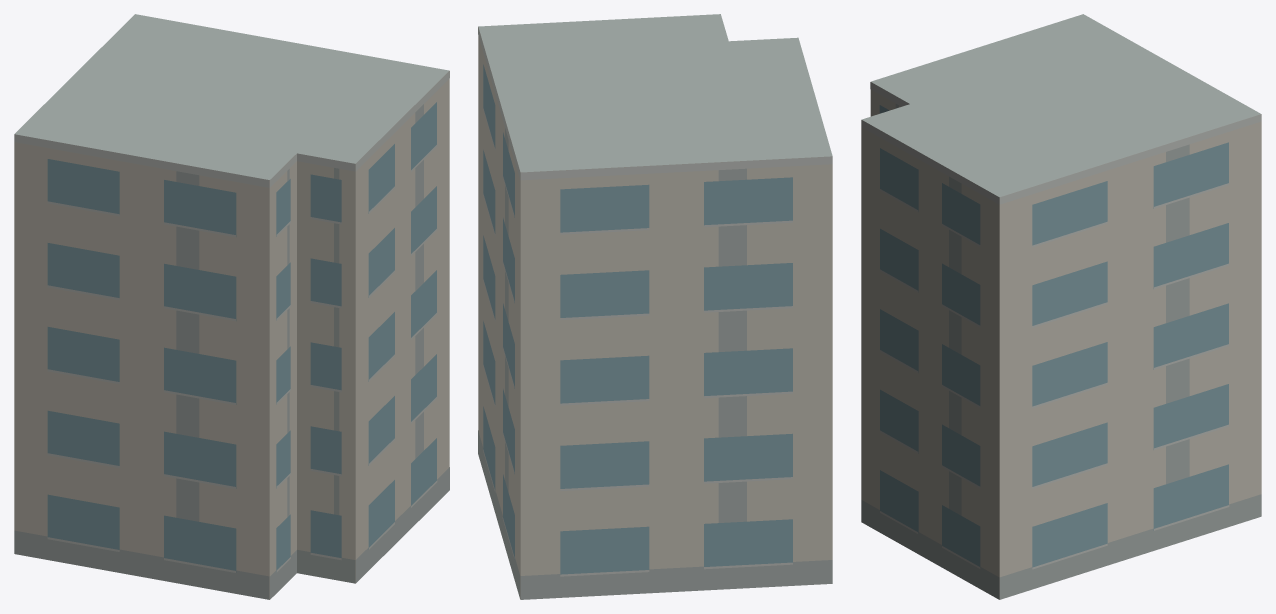
File: residential-63ffddf1-5d99-4622-8a39-65be69828a64.glb
The picture shows the model from 3 angles, left to right: view 1: azimuth 30°, elevation 25°; view 2: azimuth 150°, elevation 25°; view 3: azimuth 270°, elevation 25°; orthographic projection. The views are drawn at different scales.
Visible parts, largest first — view 1: residential-63ffddf1-5d99-4622-8a39-65be69828a64.tmp; view 2: residential-63ffddf1-5d99-4622-8a39-65be69828a64.tmp; view 3: residential-63ffddf1-5d99-4622-8a39-65be69828a64.tmp.
Boxes of the visible parts, x1,y1,x2,y2 form: residential-63ffddf1-5d99-4622-8a39-65be69828a64.tmp: [14, 14, 449, 599]; residential-63ffddf1-5d99-4622-8a39-65be69828a64.tmp: [478, 14, 832, 599]; residential-63ffddf1-5d99-4622-8a39-65be69828a64.tmp: [861, 14, 1261, 599].
Size of the model in its own units: 12.81 by 13.1 by 11.81.
